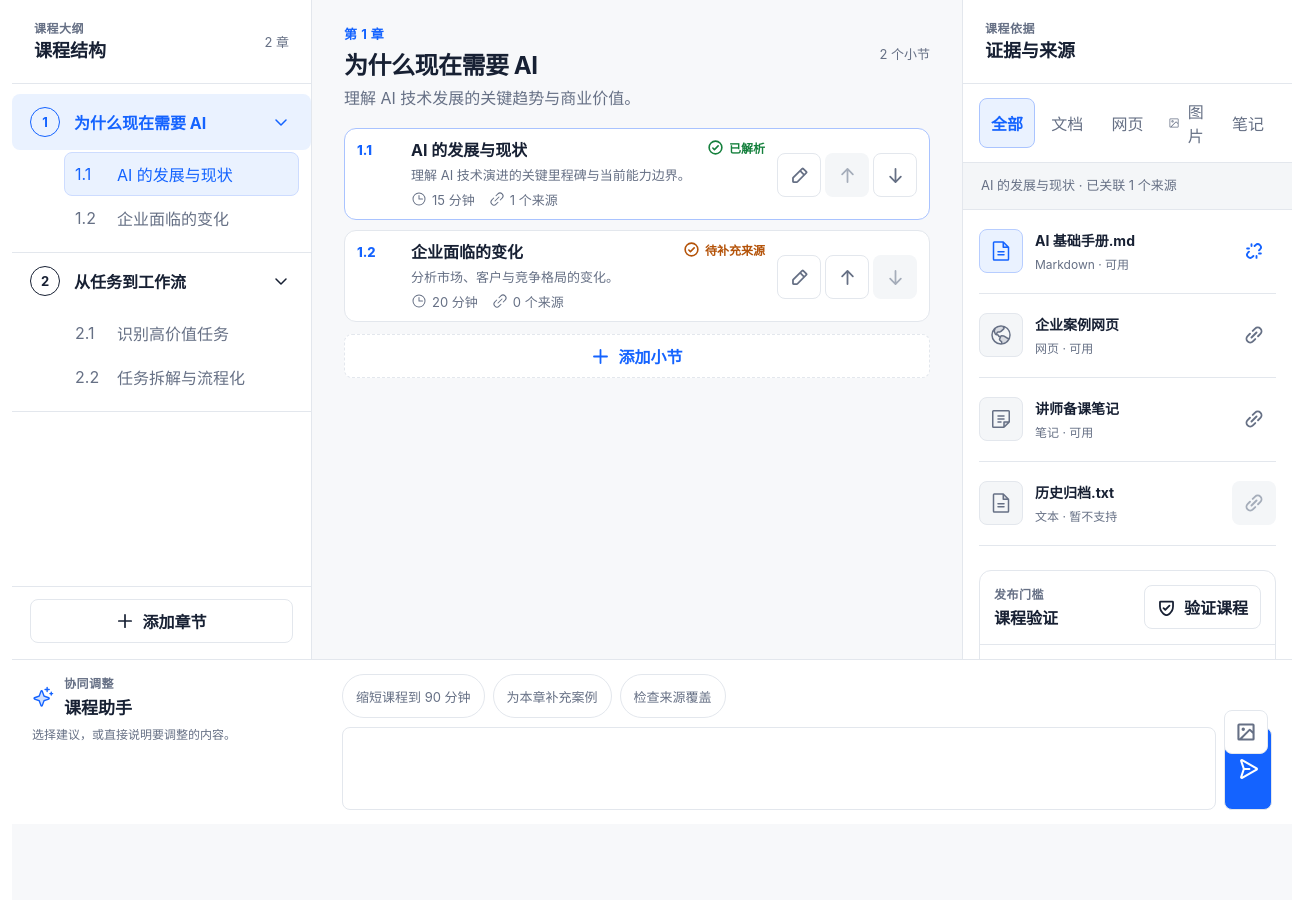
Test: 轻量课程编辑器 › toggles ready source association while keeping unsupported sources disabled
Check: the text "暂不支持" is shown, box [1069, 509, 1117, 524]
Check: the button named "关联 历史归档.txt" is disabled, box [1232, 481, 1276, 525]
Click the button named "取消关联 AI 基础手册.md" at [1254, 251], box [1232, 229, 1276, 273]
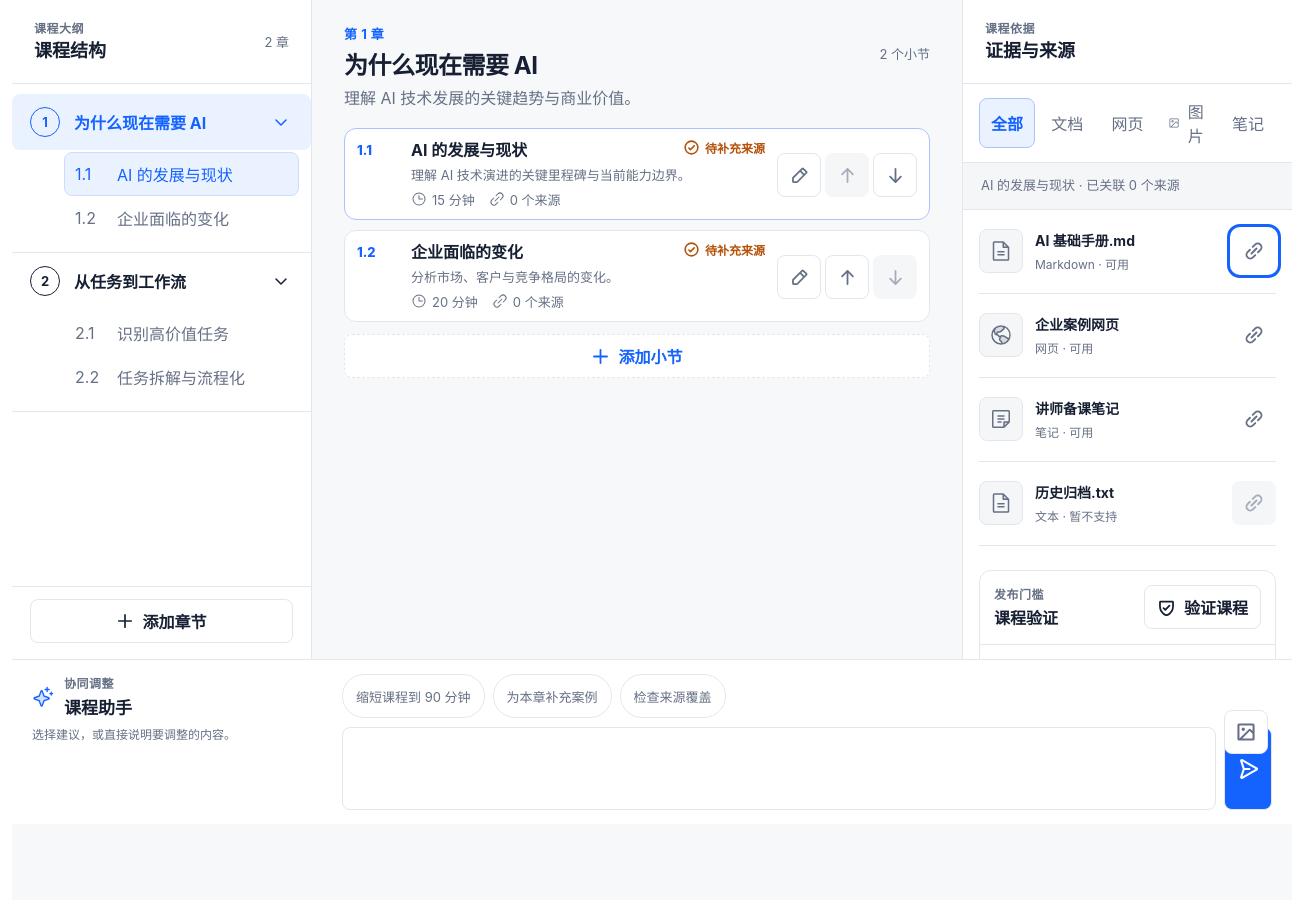
Check: the text "AI 的发展与现状 · 已关联 0 个来源" is shown, box [963, 163, 1291, 210]
Check: the 1st text "待补充来源" is shown, box [683, 139, 765, 156]
Click the button named "关联 AI 基础手册.md" at [1254, 251], box [1232, 229, 1276, 273]
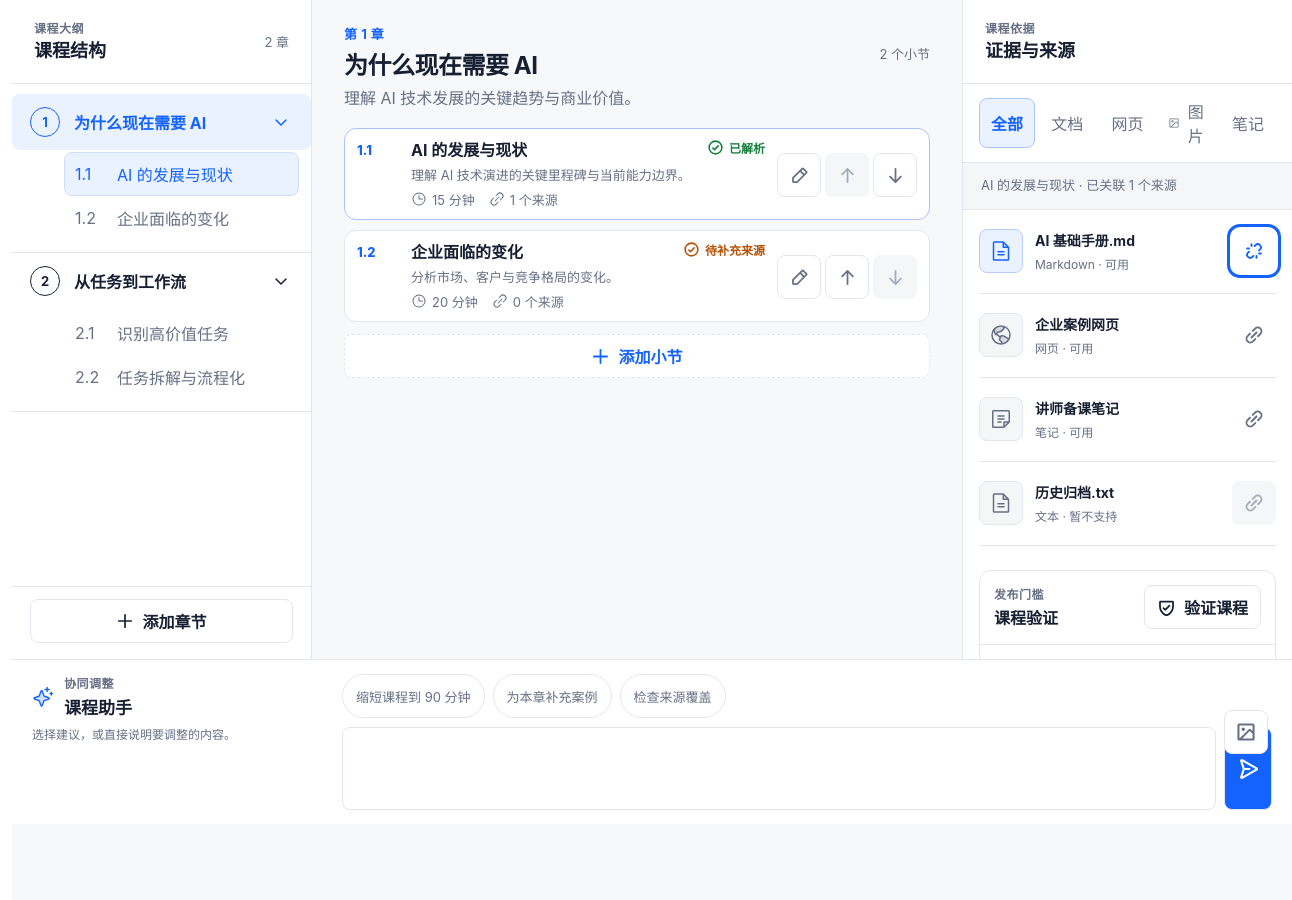
Check: the text "AI 的发展与现状 · 已关联 1 个来源" is shown, box [963, 163, 1291, 210]
Check: the text "已解析" is shown, box [707, 139, 765, 156]
